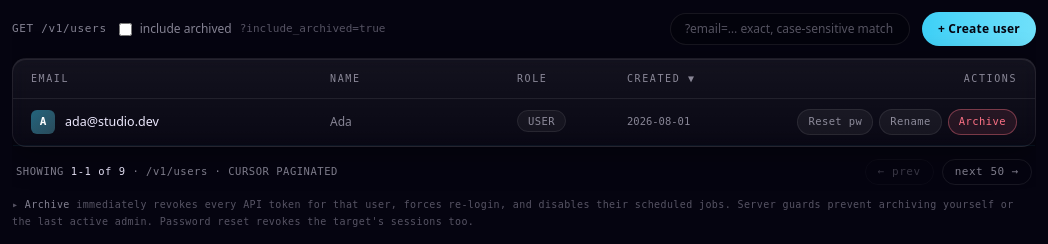
Test: typing in the email filter issues exactly one ?email= request and hides the pager
expect the text "ada@studio.dev" is shown: met, box [65,112,159,131]
expect the button "next 50 →" is shown: met, box [942,159,1032,185]
In the field named "Filter by email": (790, 29) [670,13,910,45], type "ada@studio.dev"
Wait 10 ms
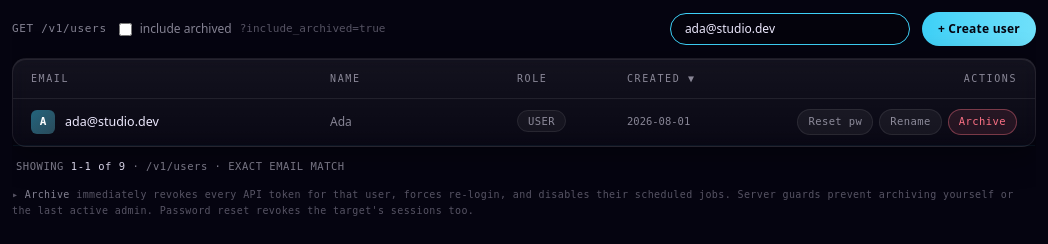
expect the button "next 50" is gone: met
